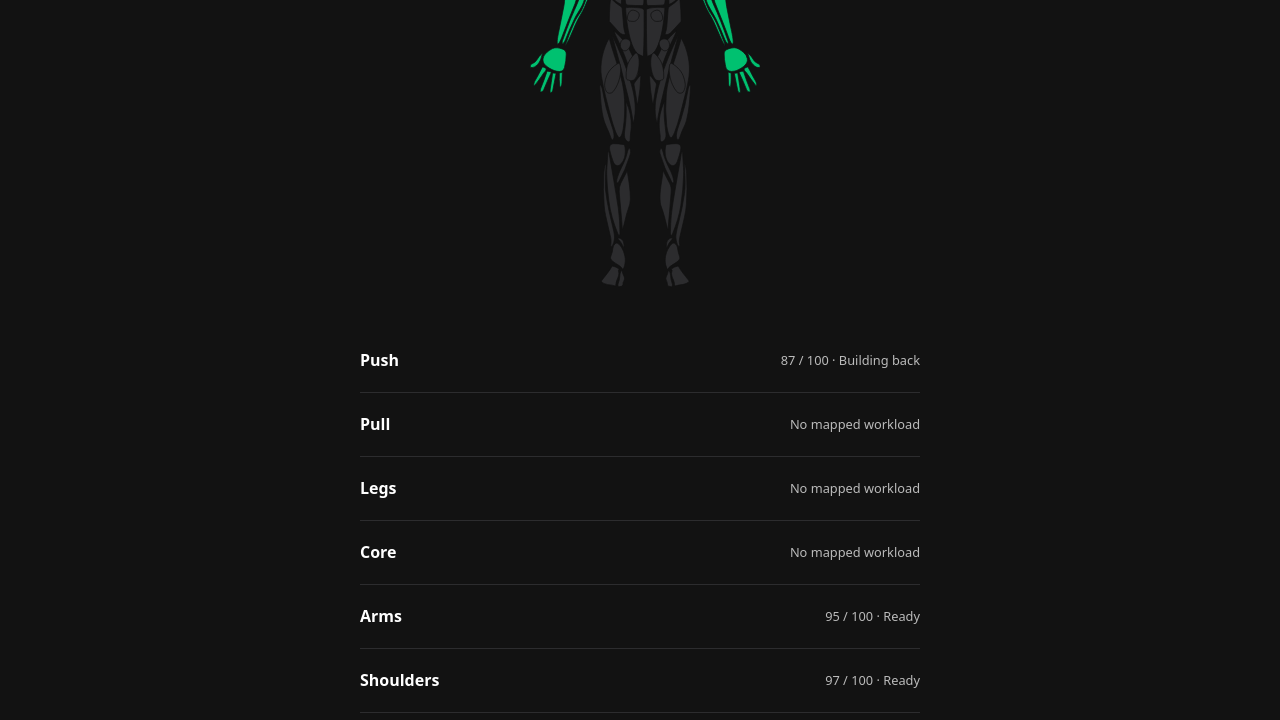
shows range-bound region evidence and an honest readiness trend
The image size is (1280, 720).
(page scrolled)
Click the button "Push 87 / 100 · Building back" at (380, 360), box left=360, top=329, right=920, bottom=393
(page scrolled)
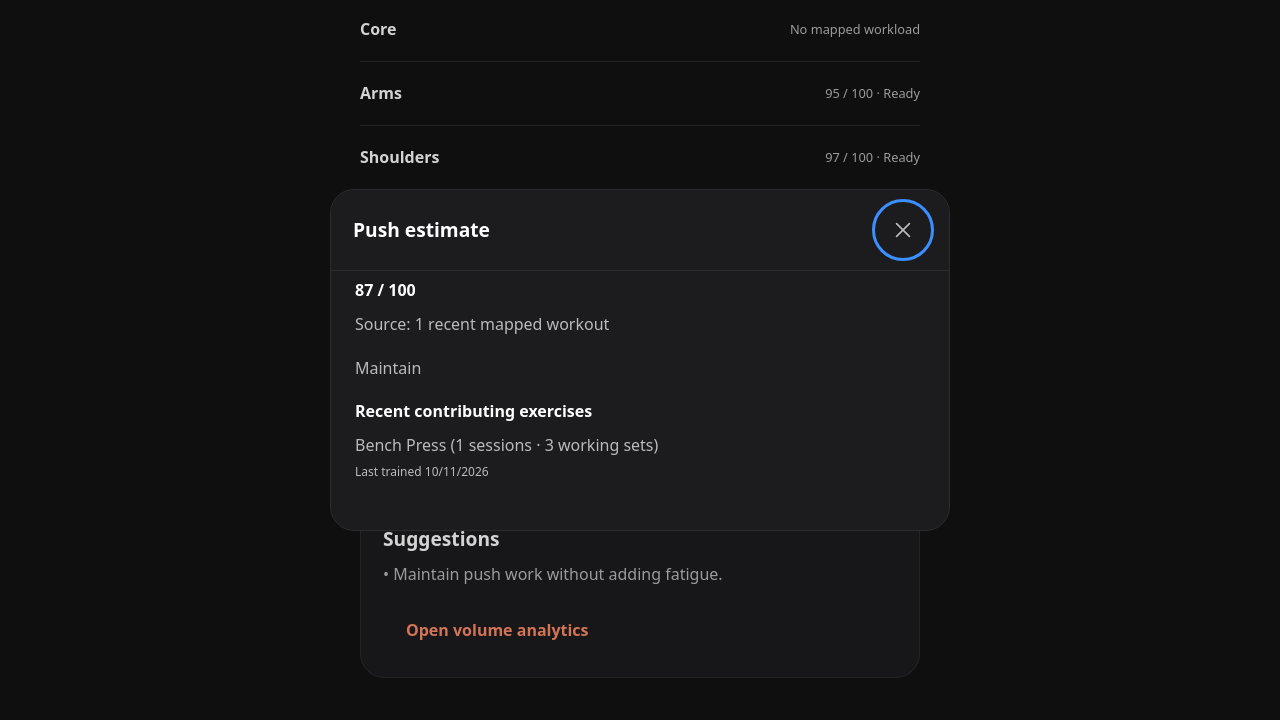
Expected: the picture named "Fourteen day readiness trend" is shown, left=383, top=320, right=897, bottom=440
Now the text "Source: 1 recent mapped workout" is shown, box left=355, top=313, right=609, bottom=335
Now the text "Bench Press (1 sessions · 3 working sets)" is shown, box left=355, top=434, right=658, bottom=480
